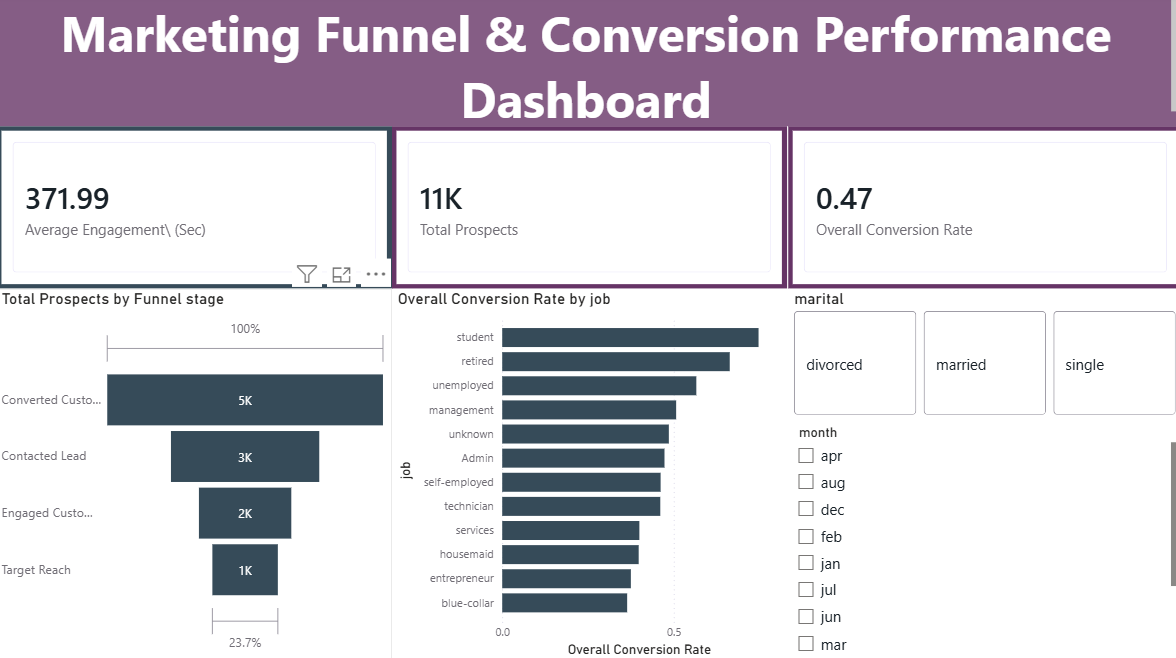

The dashboard page shown, as its layout file describes it:
{"tool":"powerbi","page":{"name":"Page 1","canvas":[1280,720],"ordinal":0},"visuals":[{"type":"cardVisual","fields":{"Data":["dsp_rawdata_3.Average Engagement\\ (Sec)"]},"box":[0,141.3,426.8,175],"z":0},{"type":"textbox","box":[0,0,1280.3,141.3],"z":1000},{"type":"cardVisual","fields":{"Data":["dsp_rawdata_3.Overall Conversion Rate"]},"box":[853.5,141.3,426,175],"z":2000},{"type":"cardVisual","fields":{"Data":["dsp_rawdata_3.Total Prospects"]},"box":[426.8,141.3,426.8,175],"z":3000},{"type":"funnel","fields":{"Category":["dsp_rawdata_3.Funnel stage"],"Y":["dsp_rawdata_3.Total Prospects"]},"box":[0,317,426.8,403.4],"z":4000},{"type":"clusteredBarChart","fields":{"Category":["dsp_rawdata_3.job"],"Y":["dsp_rawdata_3.Overall Conversion Rate"]},"box":[427,317,427,403],"z":5000},{"type":"advancedSlicerVisual","fields":{"Values":["dsp_rawdata_3.marital"]},"box":[855.3,317,425,141.7],"z":6000},{"type":"slicer","fields":{"Values":["dsp_rawdata_3.month"]},"box":[852.6,458.7,427.7,261.7],"z":7000}]}

Visuals, with their boxes in screenshot pixels (x1, y1, x2, y2), scaled from the page's 1280x720 canvas onto the 1176x658 screenshot:
cardVisual - dsp_rawdata_3.Average Engagement\ (Sec): 0, 129, 392, 289
textbox: 0, 0, 1175, 129
cardVisual - dsp_rawdata_3.Overall Conversion Rate: 784, 129, 1175, 289
cardVisual - dsp_rawdata_3.Total Prospects: 392, 129, 784, 289
funnel - dsp_rawdata_3.Funnel stage x dsp_rawdata_3.Total Prospects: 0, 290, 392, 657
clusteredBarChart - dsp_rawdata_3.job x dsp_rawdata_3.Overall Conversion Rate: 392, 290, 785, 657
advancedSlicerVisual - dsp_rawdata_3.marital: 786, 290, 1175, 419
slicer - dsp_rawdata_3.month: 783, 419, 1175, 657
